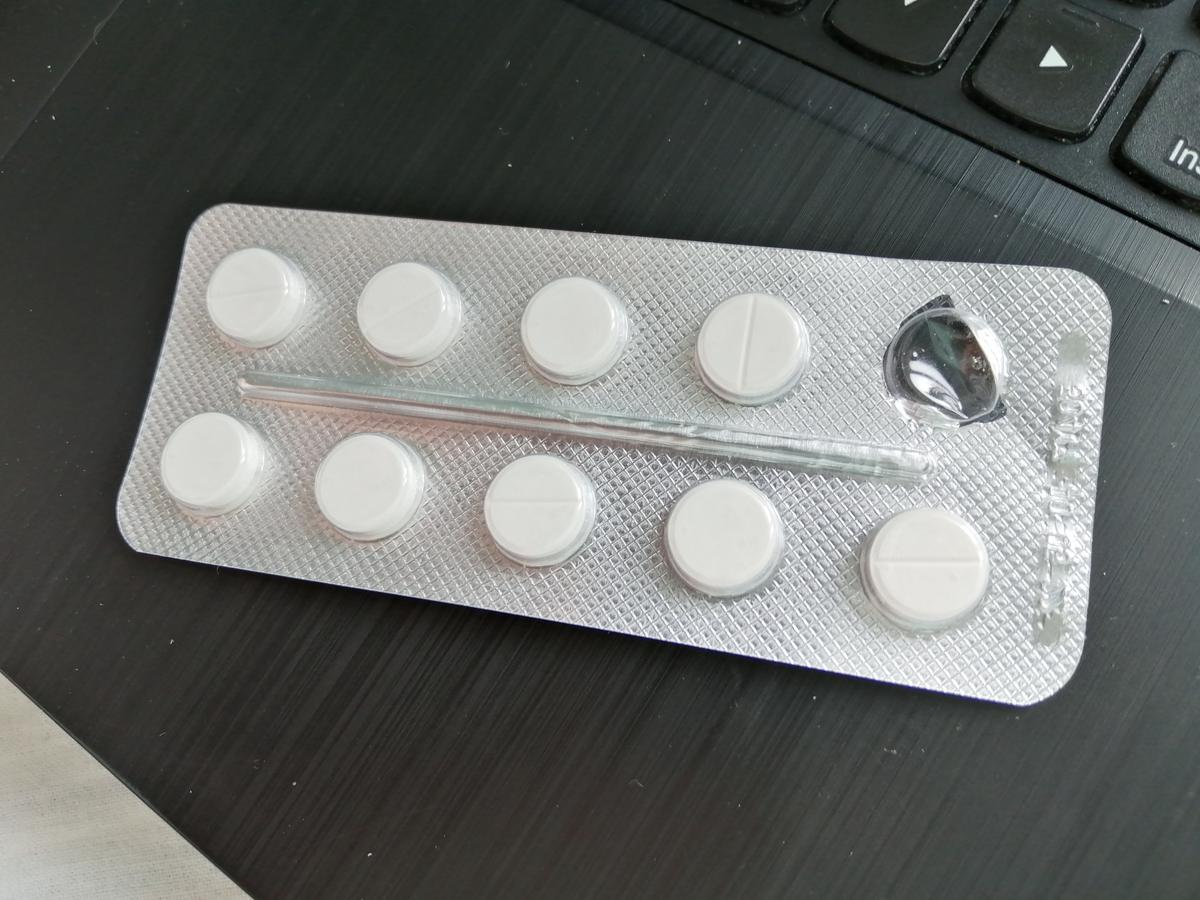tablet: (862, 497, 992, 641), (660, 473, 784, 606), (693, 283, 809, 411), (480, 451, 596, 569), (312, 431, 423, 546), (517, 276, 633, 386), (350, 261, 462, 364), (160, 411, 259, 514), (204, 247, 306, 341)
